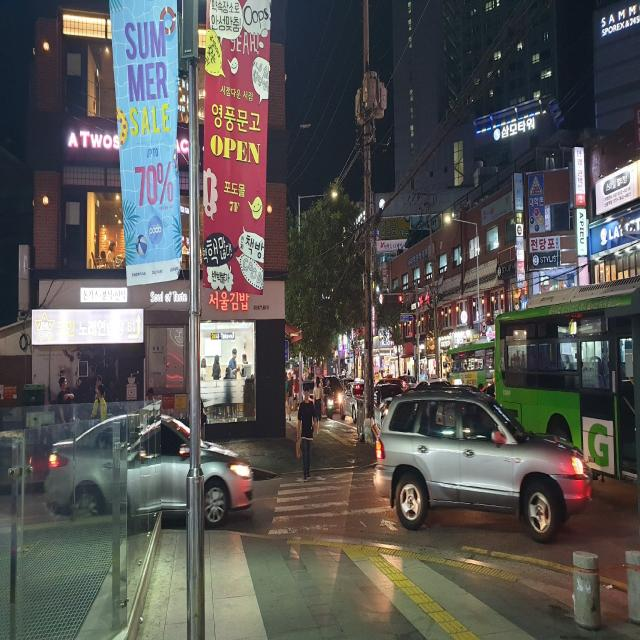횡단보도: (266, 467, 398, 538)
